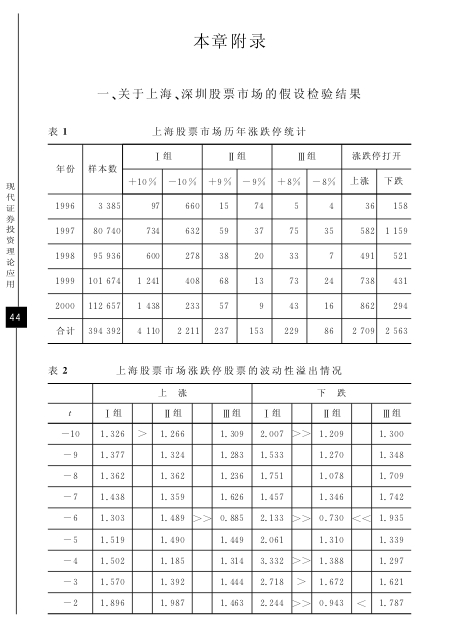table: (47, 383, 412, 615), (47, 143, 412, 345)
